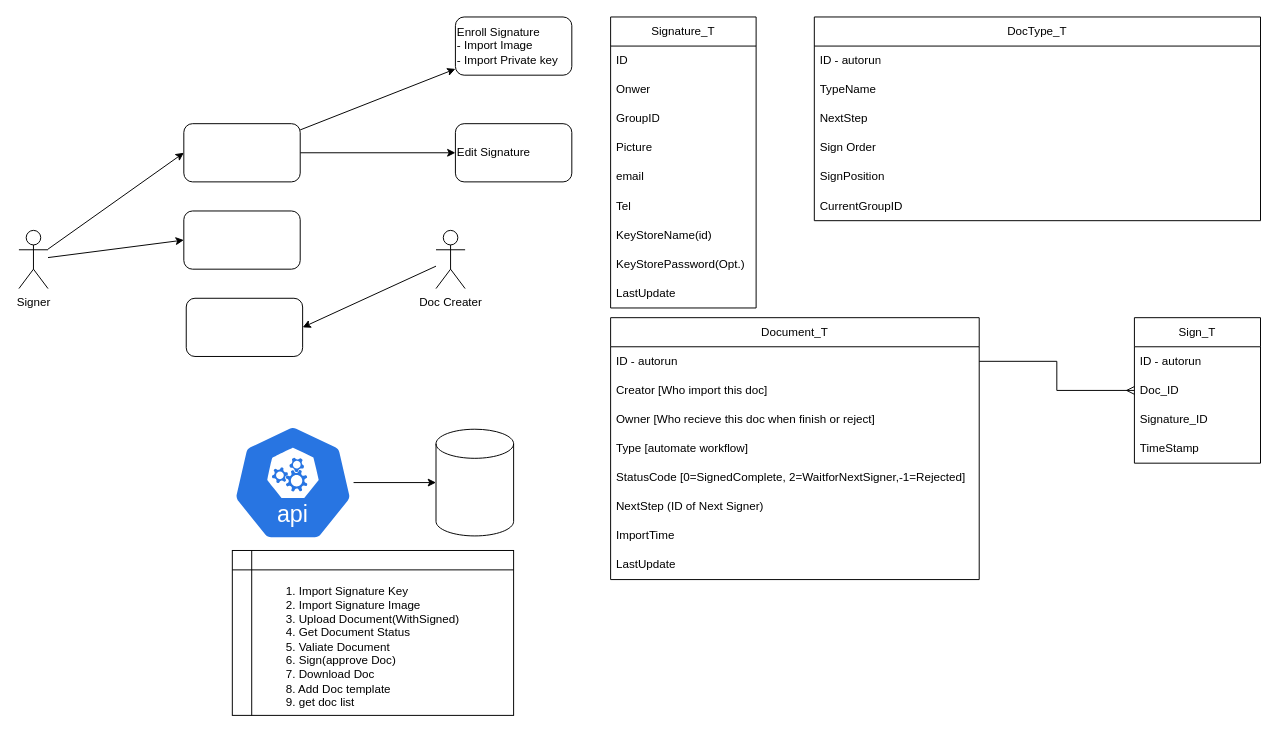
The diagram is 1277 pixels wide and 732 high, and some of its shapes have lost their labels. Each missing label, with the centre of its shape:
"Init Doc" goes at point 244,326.
"S3" goes at point 474,482.
"Sign Doc" goes at point 241,239.
"Signature Management" goes at point 241,152.
